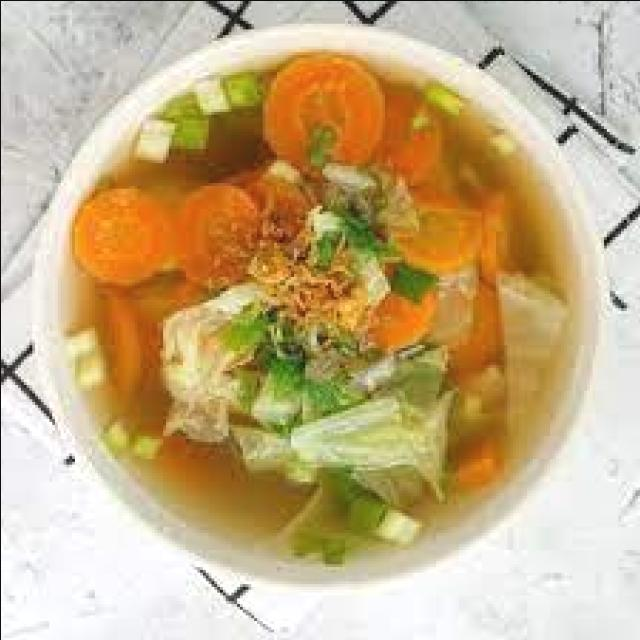sop: (34, 48, 592, 569)
